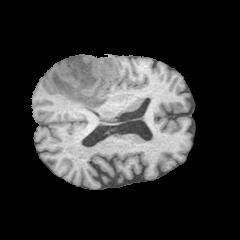glioma: (51, 54, 118, 110)
